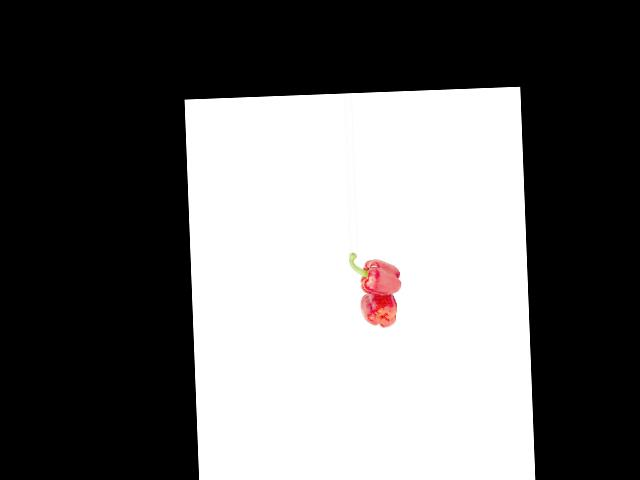bell_pepper: (357, 292, 400, 328)
